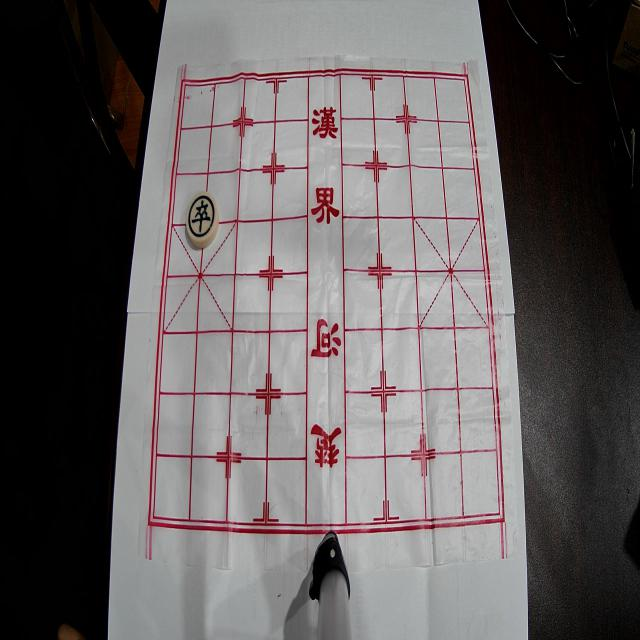black-soldier: (186, 192, 218, 248)
